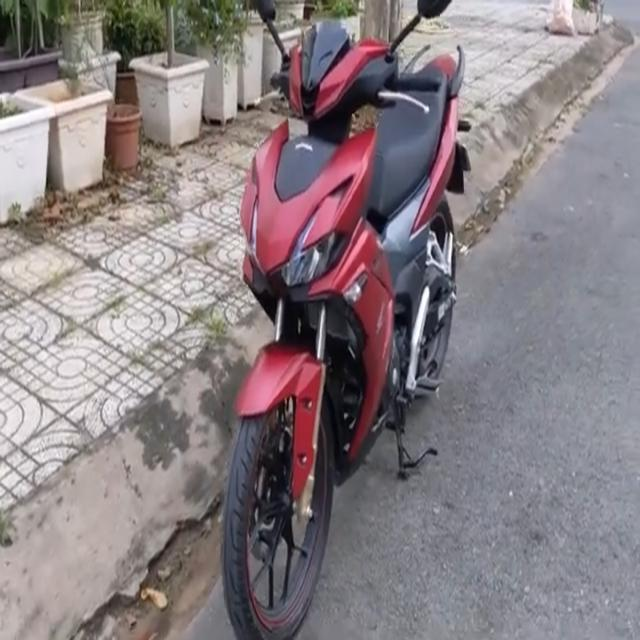motorcycle: (207, 0, 482, 640)
